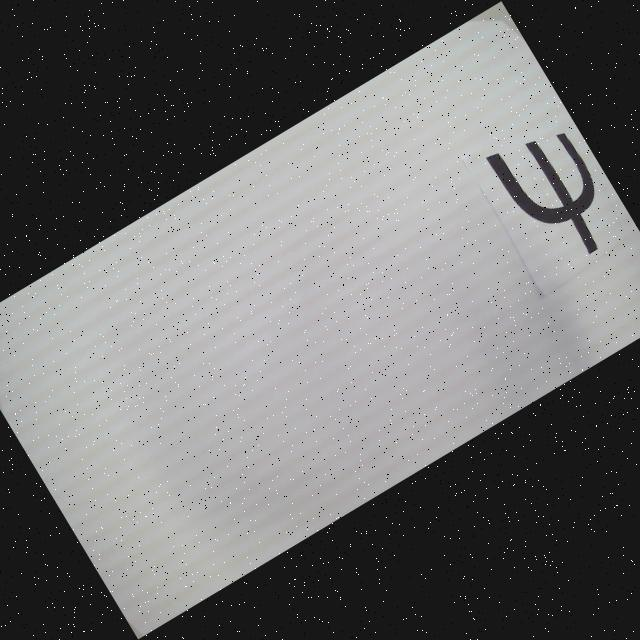PSI: (486, 115, 628, 276)
